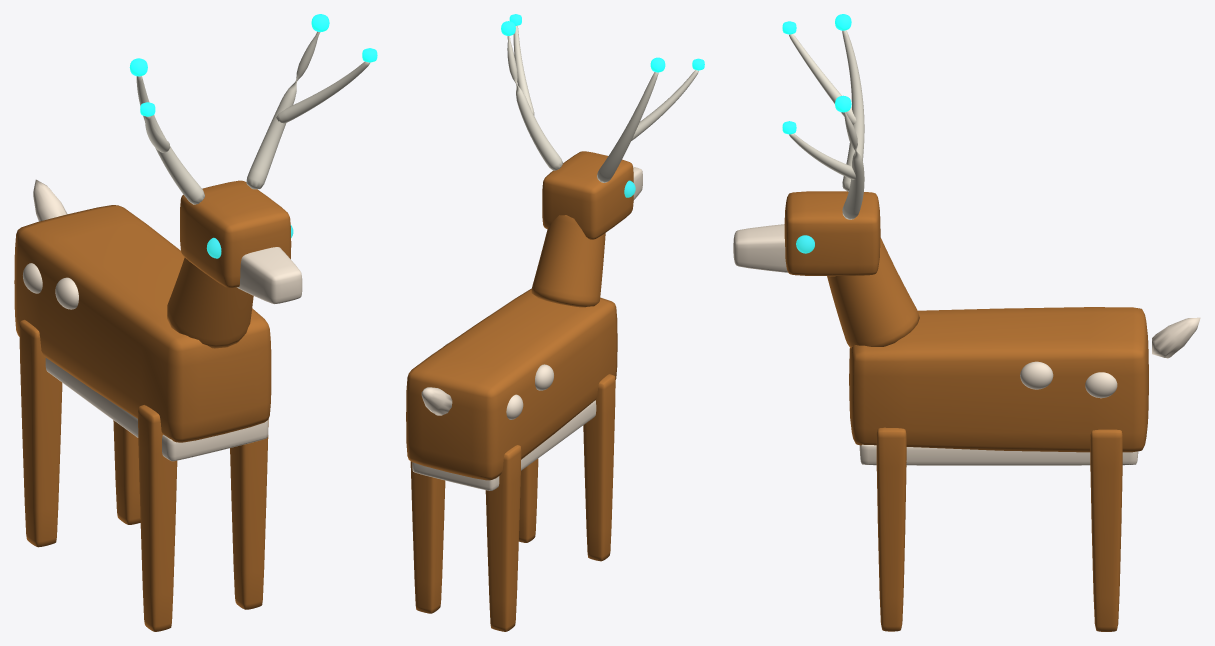
File: deer.glb
3 views of the same model, side by side, from view 1: azimuth 30°, elevation 25°; view 2: azimuth 150°, elevation 25°; view 3: azimuth 270°, elevation 25° (orthographic). The views are drawn at different scales.
Parts seen in each view (by area): view 1: Body, Head, LeftLeg, LeftArm, RightArm, RightLeg, Tail; view 2: Body, Head, LeftLeg, LeftArm, RightLeg, RightArm, Tail; view 3: Body, Head, RightLeg, RightArm, Tail.
Part boxes in pixels (left/top/right/bottom): Body: left=14, top=205, right=271, bottom=461; Head: left=129, top=14, right=377, bottom=348; LeftLeg: left=19, top=319, right=62, bottom=547; LeftArm: left=138, top=405, right=177, bottom=631; RightArm: left=230, top=419, right=268, bottom=609; RightLeg: left=113, top=420, right=140, bottom=524; Tail: left=33, top=179, right=67, bottom=221; Body: left=406, top=288, right=617, bottom=490; Head: left=501, top=14, right=704, bottom=307; LeftLeg: left=485, top=445, right=521, bottom=631; LeftArm: left=583, top=374, right=615, bottom=561; RightLeg: left=410, top=461, right=445, bottom=613; RightArm: left=519, top=458, right=538, bottom=542; Tail: left=421, top=387, right=452, bottom=415; Body: left=849, top=307, right=1148, bottom=465; Head: left=733, top=14, right=919, bottom=348; RightLeg: left=1090, top=429, right=1122, bottom=631; RightArm: left=876, top=427, right=906, bottom=631; Tail: left=1152, top=317, right=1200, bottom=358.
Size of the model in its own units: 0.9359 by 2.27 by 1.74.
